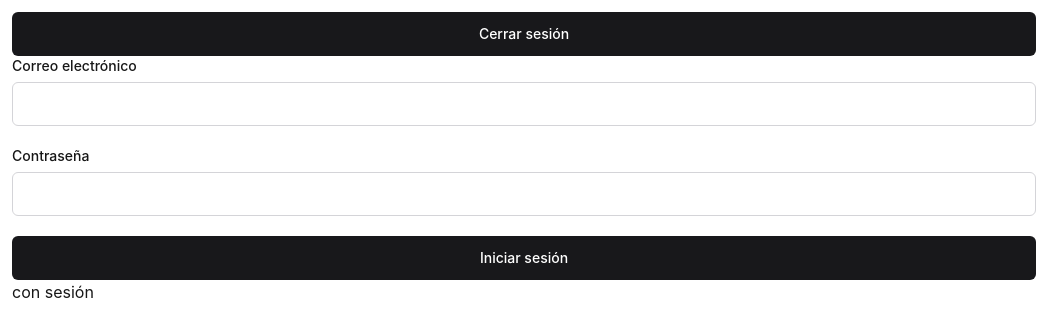
Test: 001/US5 - Cierre de sesión › Caso alternativo — usuario que cerró su sesión vuelve a iniciar sesión
This screenshot has width=1048, height=319.
Step 1. Click the button "Cerrar sesión" → (524, 34), box [12,12,1036,56]
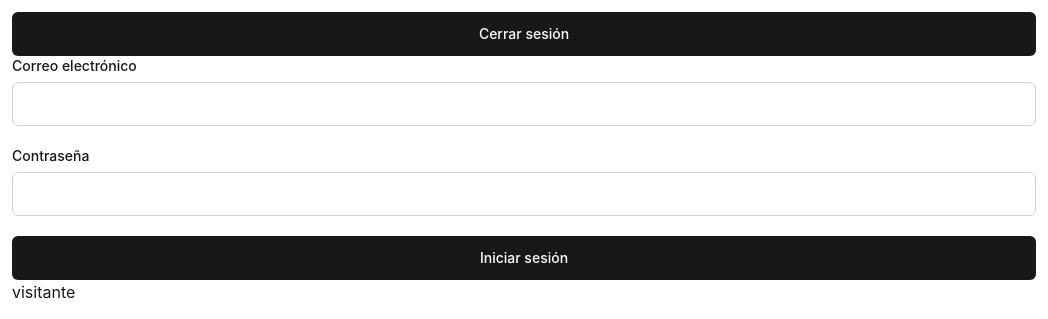
Check: the text with test id "session-state" reads "visitante", box [12,282,75,302]
Step 2. Type "ana@example.com" into the field labelled "Correo electrónico" → (524, 104), box [12,82,1036,126]
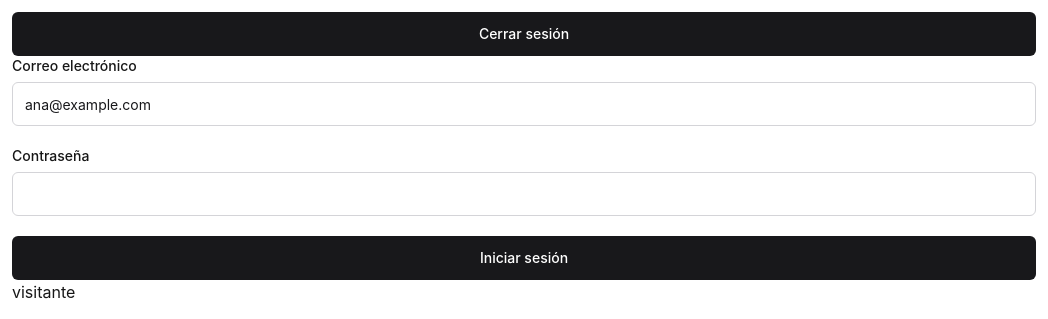
Step 3. Type "Proyecto2026" into the password field labelled "Contraseña" → (524, 194), box [12,172,1036,216]
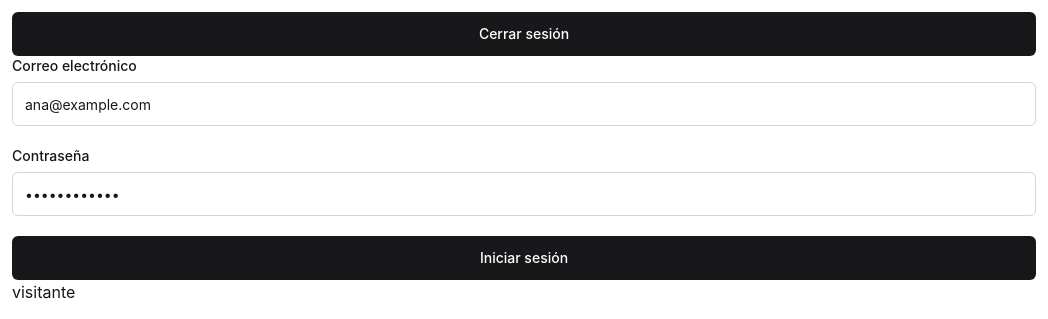
Step 4. Click the button "Iniciar sesión" → (524, 258), box [12,236,1036,280]
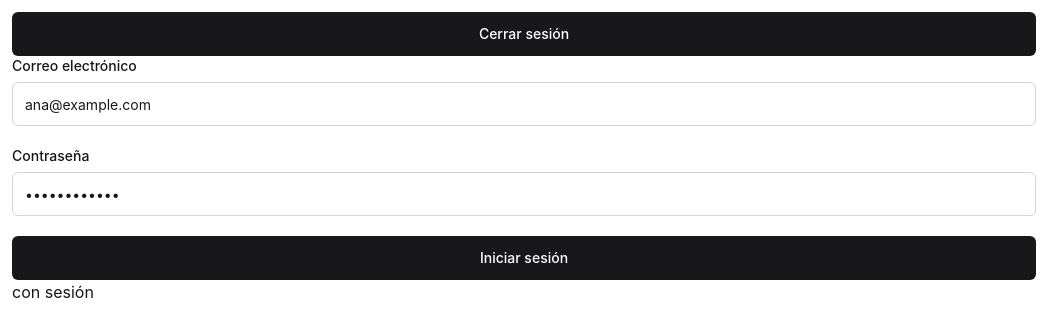
Check: the text with test id "session-state" reads "con sesión", box [12,282,94,302]
